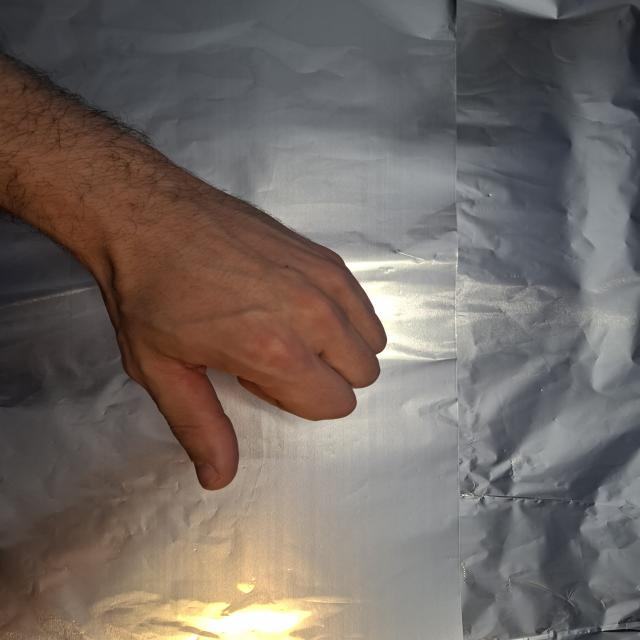glove_off: (46, 177, 390, 493)
